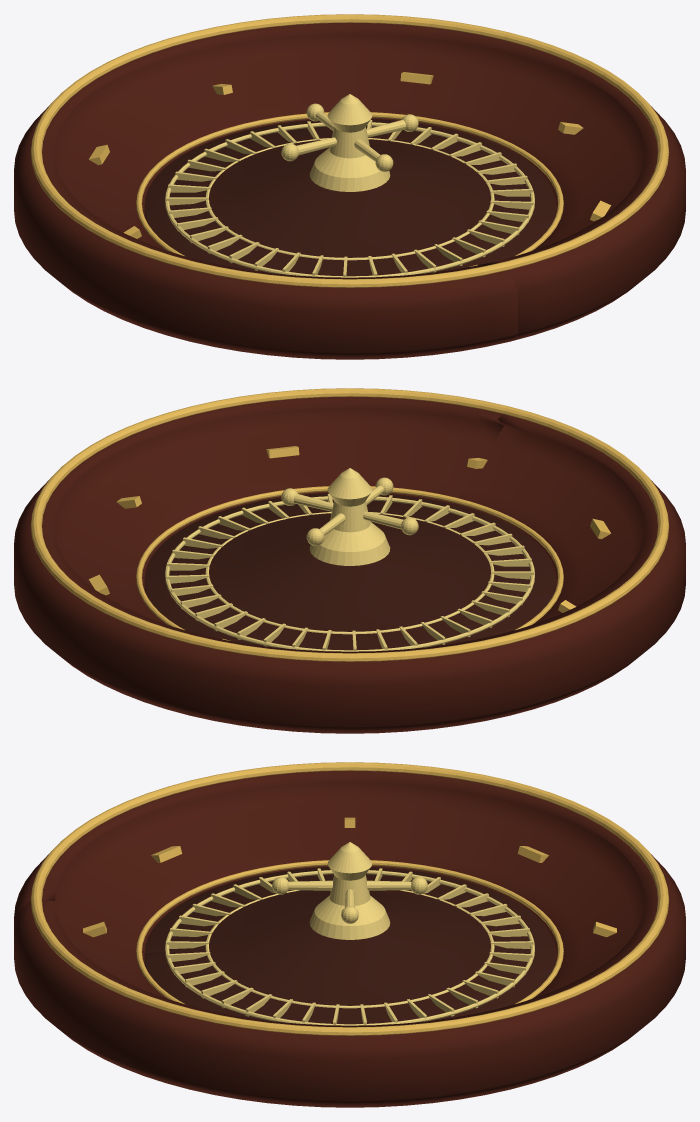
The model's file is roulette.glb.
3 views of the same model, one above another, from view 1: azimuth 30°, elevation 25°; view 2: azimuth 150°, elevation 25°; view 3: azimuth 270°, elevation 25° (orthographic).
Visible parts, largest first — view 1: roulette_bowl, roulette_rotor, roulette_brass, roulette_turret; view 2: roulette_bowl, roulette_rotor, roulette_brass, roulette_turret; view 3: roulette_bowl, roulette_rotor, roulette_brass, roulette_turret.
Part boxes in pixels (box(x1,y1,x2,y2)): roulette_bowl: box(14, 22, 685, 359); roulette_rotor: box(144, 119, 555, 276); roulette_brass: box(30, 14, 669, 287); roulette_turret: box(165, 94, 534, 277); roulette_bowl: box(14, 396, 685, 733); roulette_rotor: box(144, 493, 555, 650); roulette_brass: box(30, 388, 669, 661); roulette_turret: box(165, 468, 534, 651); roulette_bowl: box(14, 770, 685, 1107); roulette_rotor: box(144, 867, 555, 1024); roulette_brass: box(30, 762, 669, 1035); roulette_turret: box(165, 842, 534, 1025).
Size of the model in its own units: 1.8 by 0.385 by 1.8.
